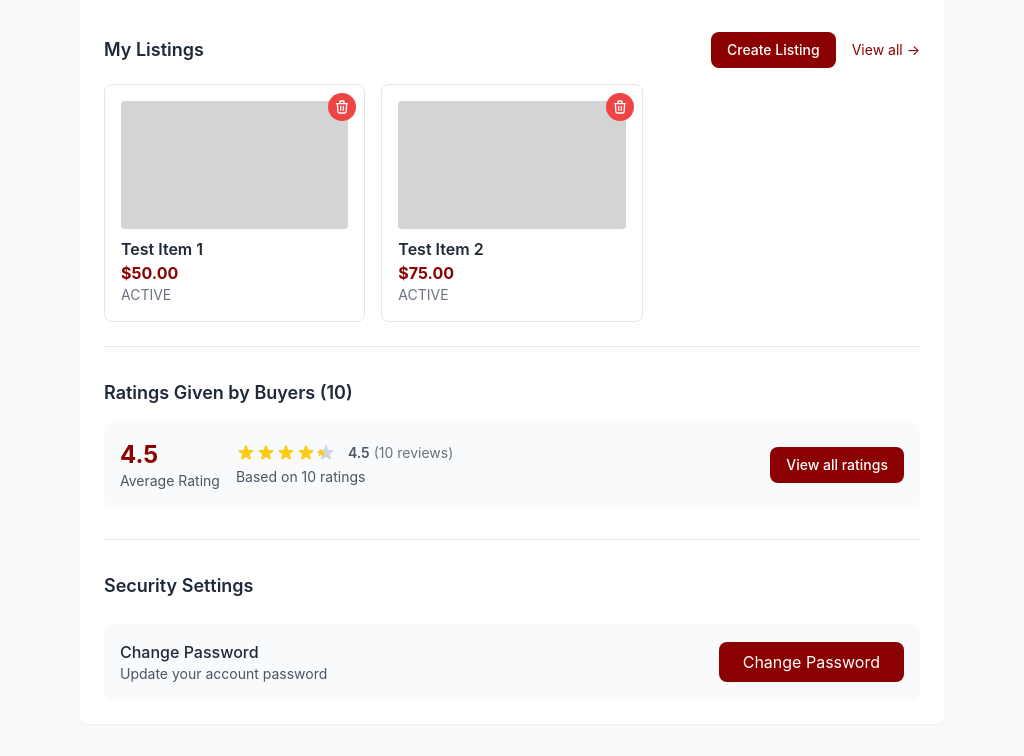
it: ProfilePage › Change Password › shows change password form when button is clicked
This screenshot has width=1024, height=756.
(page scrolled)
Expected: the heading "Change Password" is shown, left=120, top=642, right=259, bottom=662
Click the button "Change Password": (811,662) left=719, top=642, right=904, bottom=682
(page scrolled)
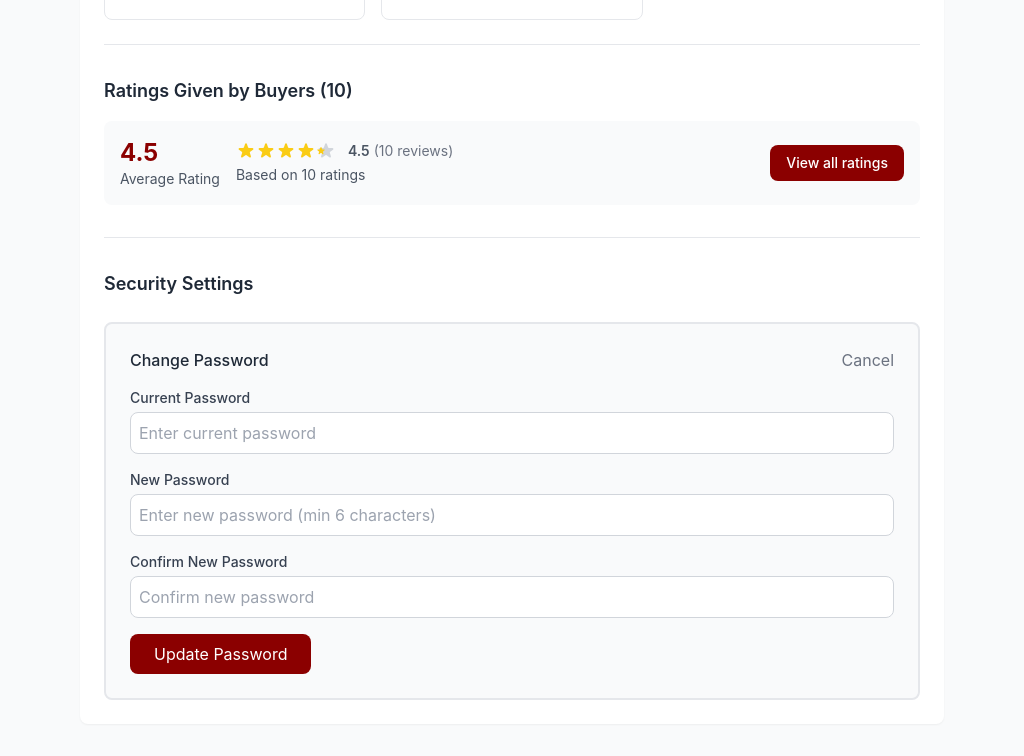
Now the password field with placeholder "Enter current password" is shown, box left=130, top=412, right=894, bottom=454
Now the password field with placeholder "Enter new password (min 6 characters)" is shown, box left=130, top=494, right=894, bottom=536
Now the password field with placeholder "Confirm new password" is shown, box left=130, top=576, right=894, bottom=618
